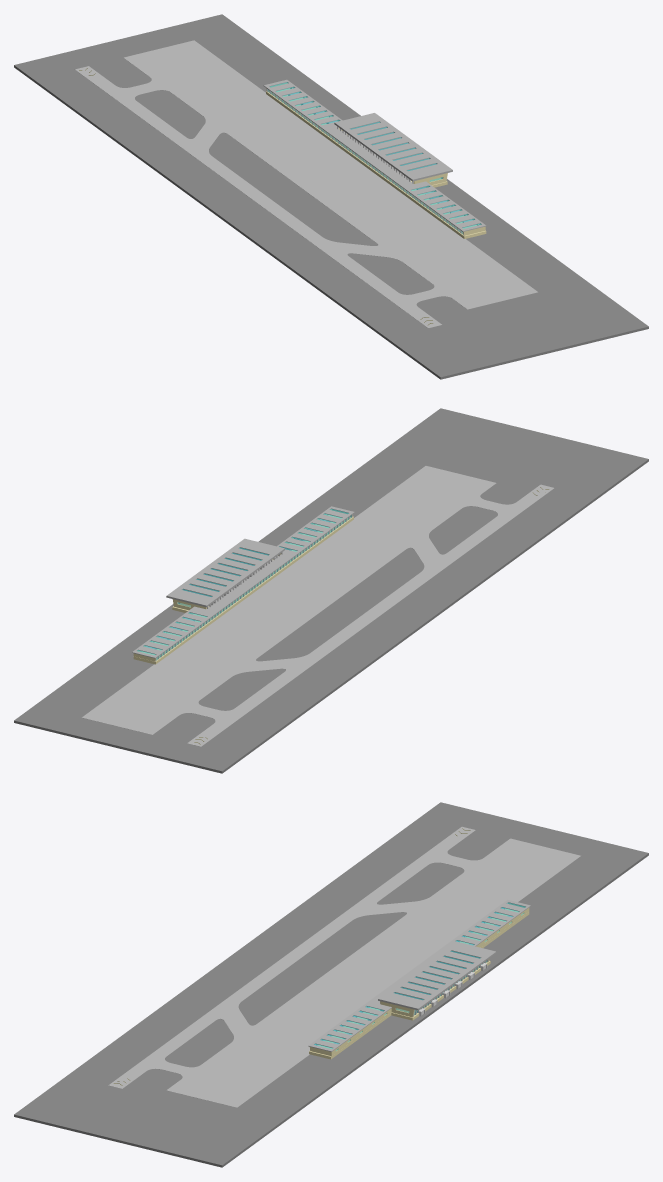
File: tmp_artwapt.glb
3 renders of one model, top to bottom at view 1: azimuth 30°, elevation 25°; view 2: azimuth 150°, elevation 25°; view 3: azimuth 330°, elevation 25°, orthographic.
Parts seen in each view (by area): view 1: ground, runway, ceiliing2, ceiling1, base; view 2: ground, runway, ceiliing2, ceiling1, base; view 3: ground, runway, ceiling1, ceiliing2, base.
Boxes of the visible parts, x1=… form: ground: x1=14, y1=14, x2=648, y2=379; runway: x1=75, y1=40, x2=537, y2=328; ceiliing2: x1=263, y1=79, x2=486, y2=231; ceiling1: x1=334, y1=113, x2=452, y2=181; base: x1=266, y1=88, x2=486, y2=238; ground: x1=14, y1=408, x2=648, y2=773; runway: x1=82, y1=466, x2=554, y2=746; ceiliing2: x1=132, y1=506, x2=354, y2=658; ceiling1: x1=166, y1=538, x2=284, y2=607; base: x1=133, y1=515, x2=353, y2=664; ground: x1=14, y1=802, x2=648, y2=1167; runway: x1=108, y1=826, x2=580, y2=1107; ceiling1: x1=378, y1=941, x2=496, y2=1010; ceiliing2: x1=308, y1=900, x2=530, y2=1051; base: x1=309, y1=908, x2=529, y2=1059.
Size of the model in its own units: 12.46 by 0.8844 by 44.22.
